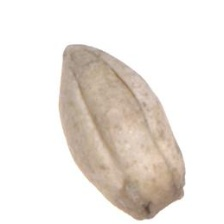L1: (136, 187, 185, 220), (60, 41, 87, 66)
L2: (58, 44, 186, 220)
